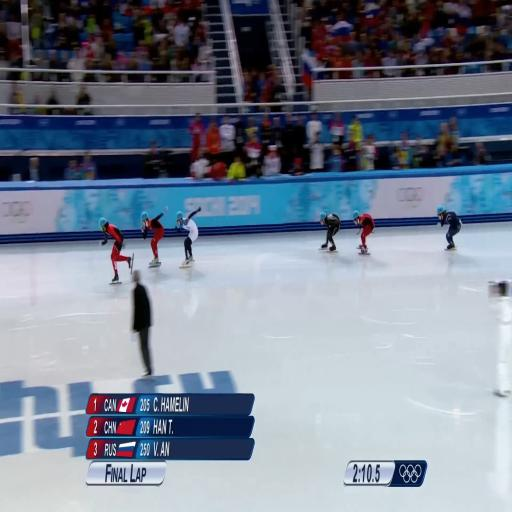Skater: (99, 218, 133, 283), (141, 207, 167, 267), (177, 207, 201, 268), (437, 206, 461, 250), (353, 211, 374, 254), (320, 212, 340, 251)
